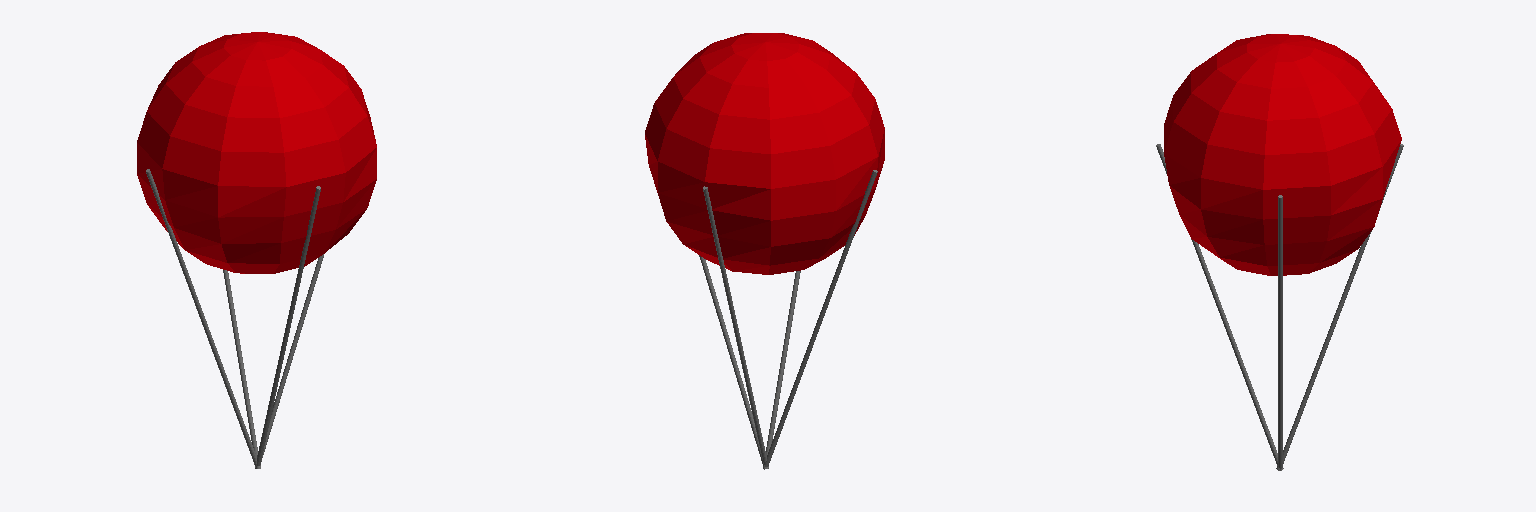
File: huusen.obj
3 renders of one model, left to right at view 1: azimuth 30°, elevation 25°; view 2: azimuth 150°, elevation 25°; view 3: azimuth 270°, elevation 25°, orthographic.
Parts seen in each view (by area): view 1: obj1; view 2: obj1; view 3: obj1.
Boxes of the visible parts, x1,y1,x2,y2 form: obj1: [137, 32, 376, 468]; obj1: [645, 33, 884, 469]; obj1: [1156, 34, 1403, 470].
Bounding box in the file's own units: 20.66 × 38.35 × 20.21.